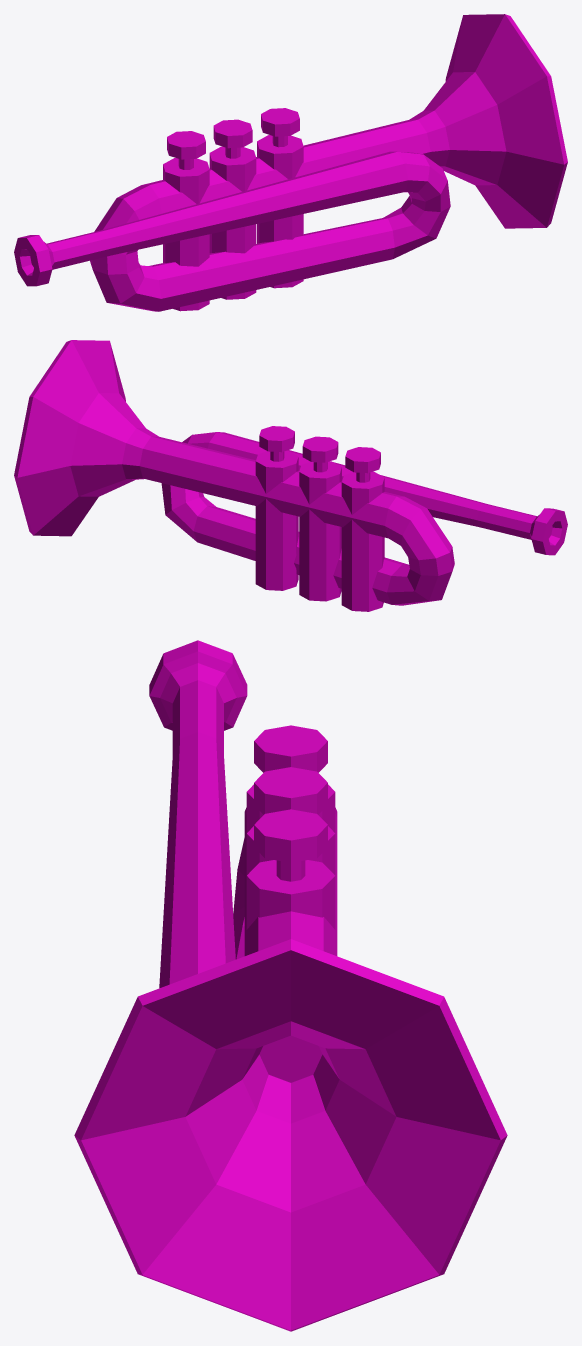
The model's file is Trumpet_01.fbx.
3 views of the same model, one above another, from view 1: azimuth 30°, elevation 25°; view 2: azimuth 150°, elevation 25°; view 3: azimuth 270°, elevation 25° (orthographic). The views are drawn at different scales.
Parts seen in each view (by area): view 1: Trumpet_01; view 2: Trumpet_01; view 3: Trumpet_01.
Boxes of the visible parts, x1=… form: Trumpet_01: x1=14, y1=14, x2=567, y2=311; Trumpet_01: x1=14, y1=340, x2=567, y2=611; Trumpet_01: x1=74, y1=640, x2=507, y2=1331.
Bounding box in the file's own units: 13.05 × 5.25 × 5.25.
